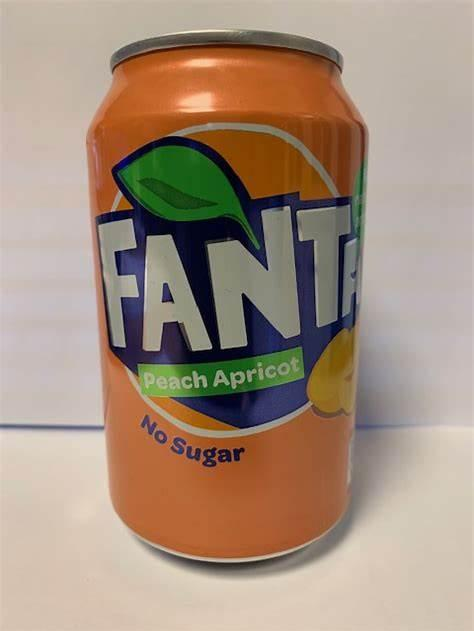metal: (86, 32, 368, 562)
